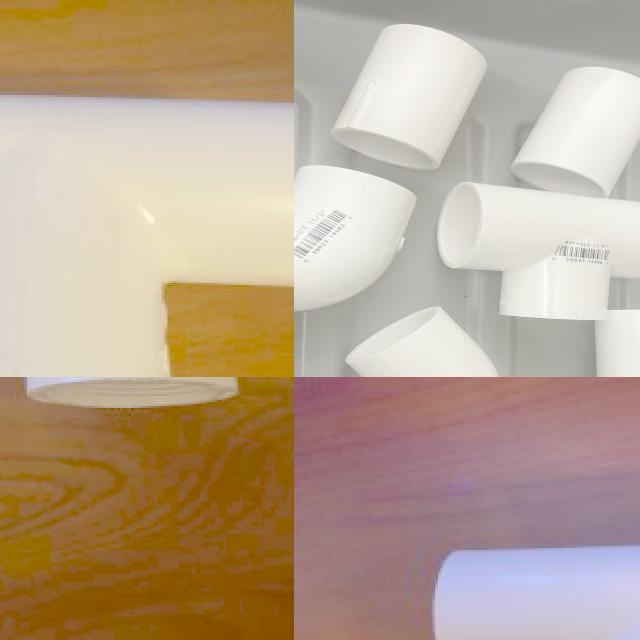L Joint: (294, 165, 416, 314), (344, 308, 496, 377)
T Joint: (437, 184, 640, 322)
